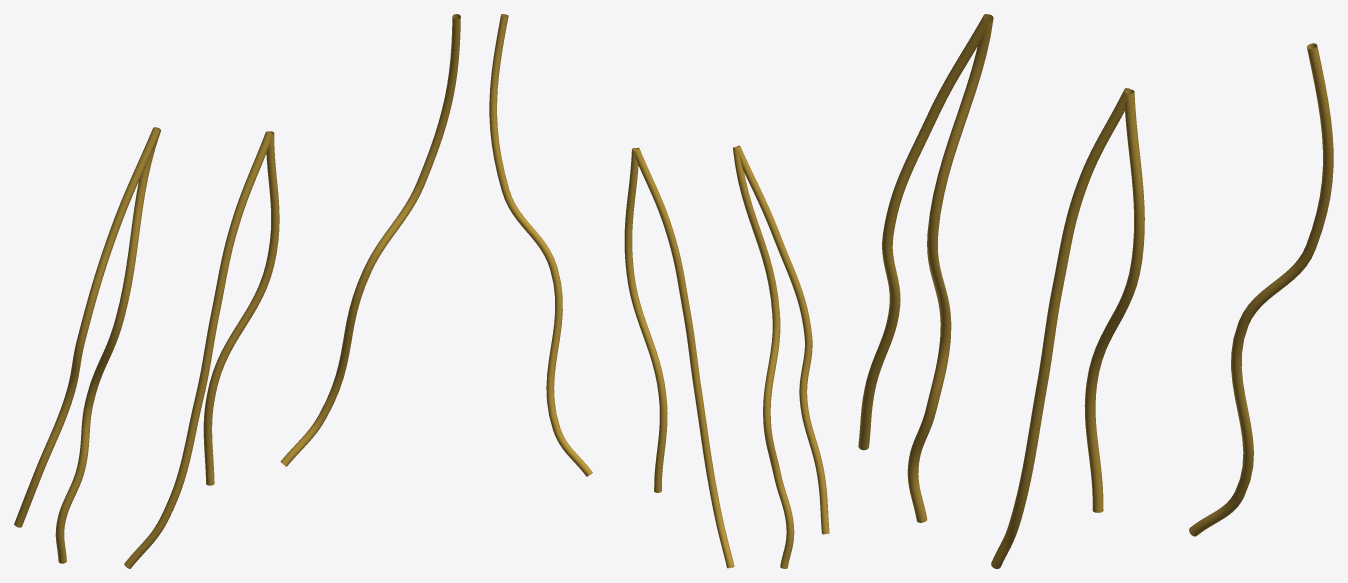
3 views of the same model, side by side, from view 1: azimuth 30°, elevation 25°; view 2: azimuth 150°, elevation 25°; view 3: azimuth 330°, elevation 25° (orthographic). The views are drawn at different scales.
Parts seen in each view (by area): view 1: 右侧足底内侧神经趾足底固有神经; view 2: 右侧足底内侧神经趾足底固有神经; view 3: 右侧足底内侧神经趾足底固有神经.
Part boxes in pixels (<box>): 右侧足底内侧神经趾足底固有神经: <box>14,14,460,568</box>; 右侧足底内侧神经趾足底固有神经: <box>489,14,829,568</box>; 右侧足底内侧神经趾足底固有神经: <box>858,14,1333,568</box>.
Bounding box in the file's own units: 0.0816 × 0.098 × 0.0165.
